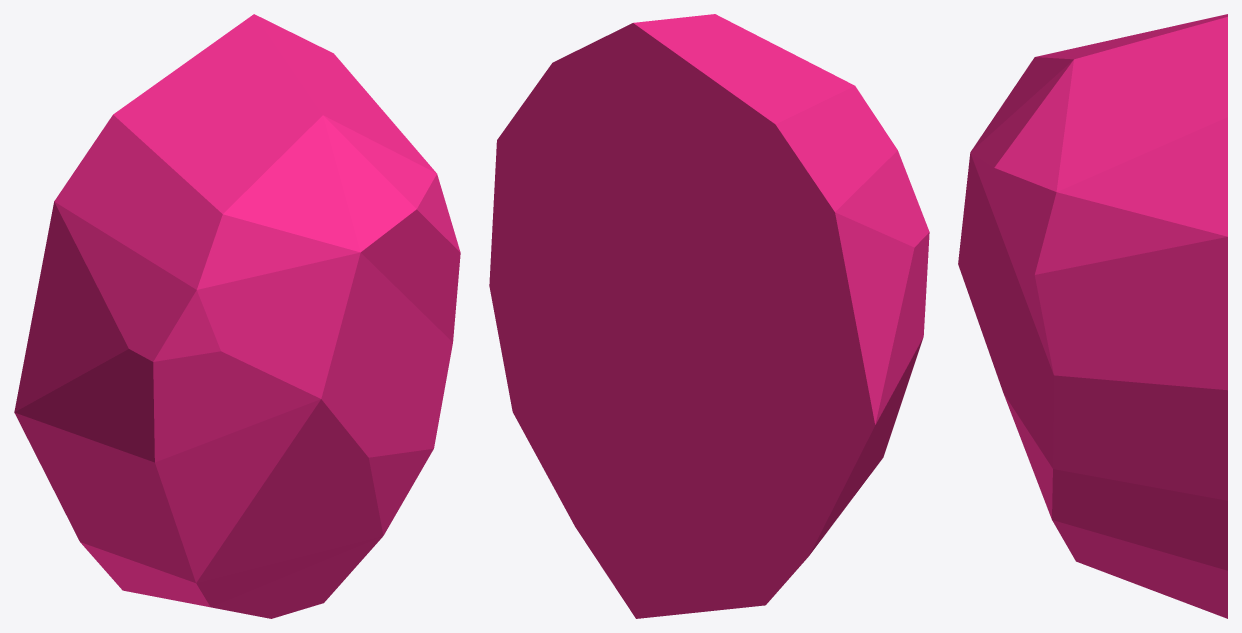
The model's file is IG_silverbullet_meter.fbx.
3 views of the same model, side by side, from view 1: azimuth 30°, elevation 25°; view 2: azimuth 150°, elevation 25°; view 3: azimuth 270°, elevation 25° (orthographic). The views are drawn at different scales.
Visible parts, largest first — view 1: Slvrbllt_gauge; view 2: Slvrbllt_gauge; view 3: Slvrbllt_gauge.
Part boxes in pixels (<box>): Slvrbllt_gauge: <box>14,14,460,618</box>; Slvrbllt_gauge: <box>489,14,929,618</box>; Slvrbllt_gauge: <box>958,14,1227,618</box>.
Bounding box in the file's own units: 62.99 × 92.86 × 37.61.
